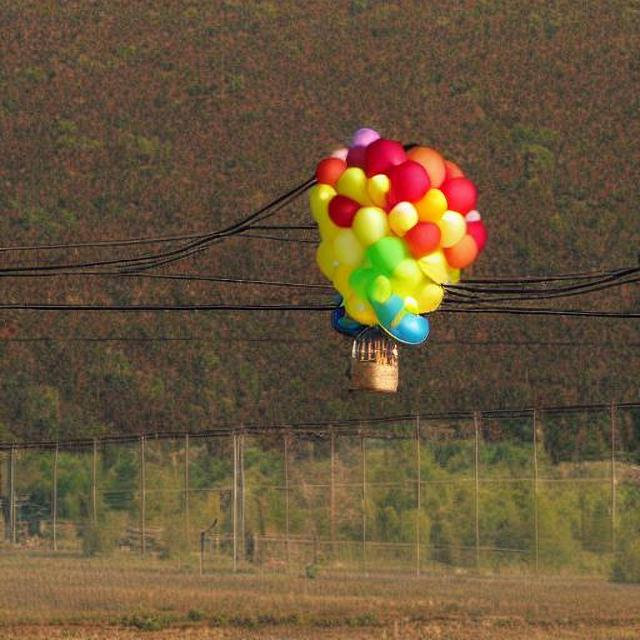balloon: (306, 123, 490, 339)
